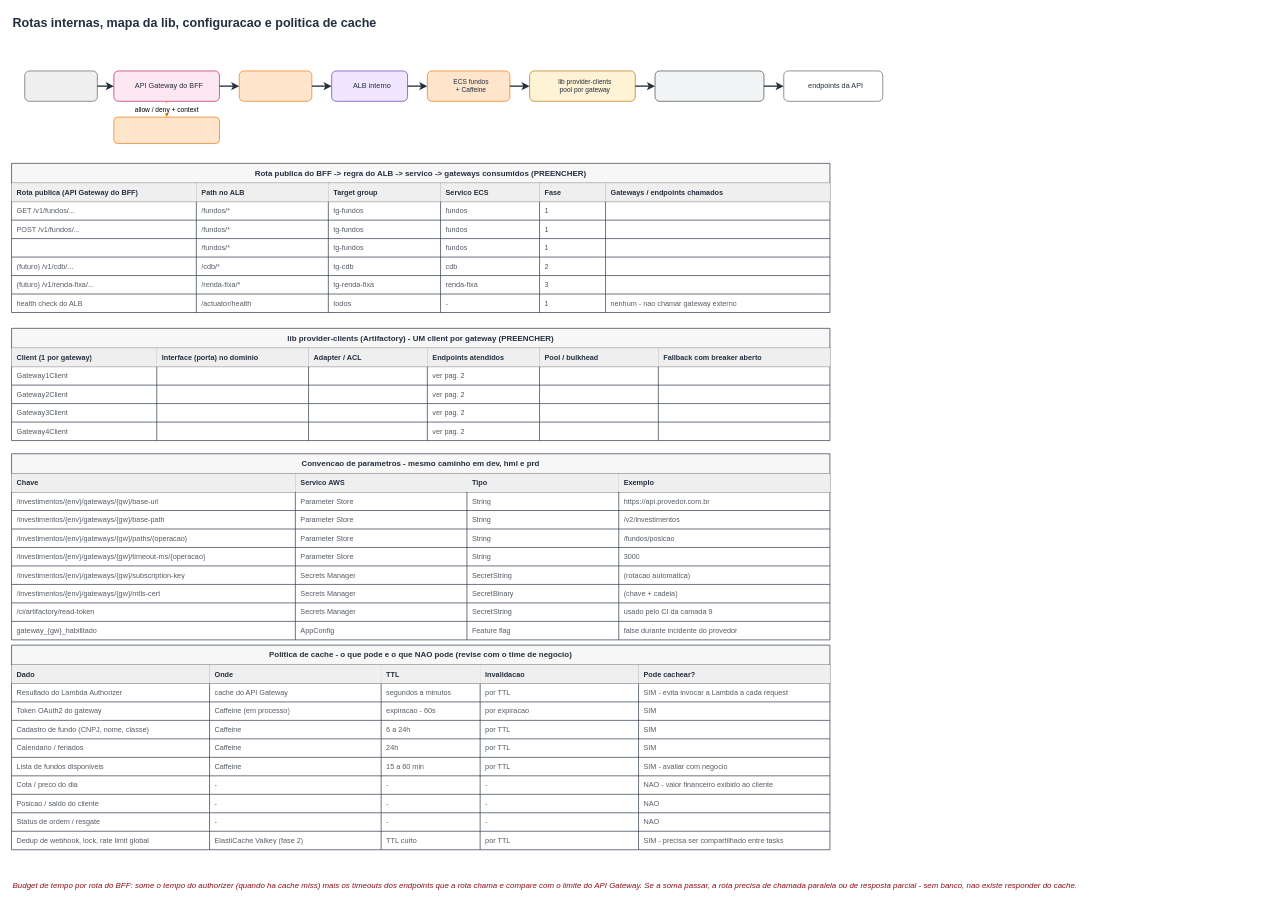
Some shapes in this 1277 by 923 pixel diagram are drawn without their labels. Here are the shapes that lost their labels. From the top down, the centre of each, then its label:
(x=60, y=85): Cliente
(x=275, y=85): BFF (ECS)
(x=709, y=85): GATEWAY do provedor
(x=166, y=130): Lambda Authorizer
